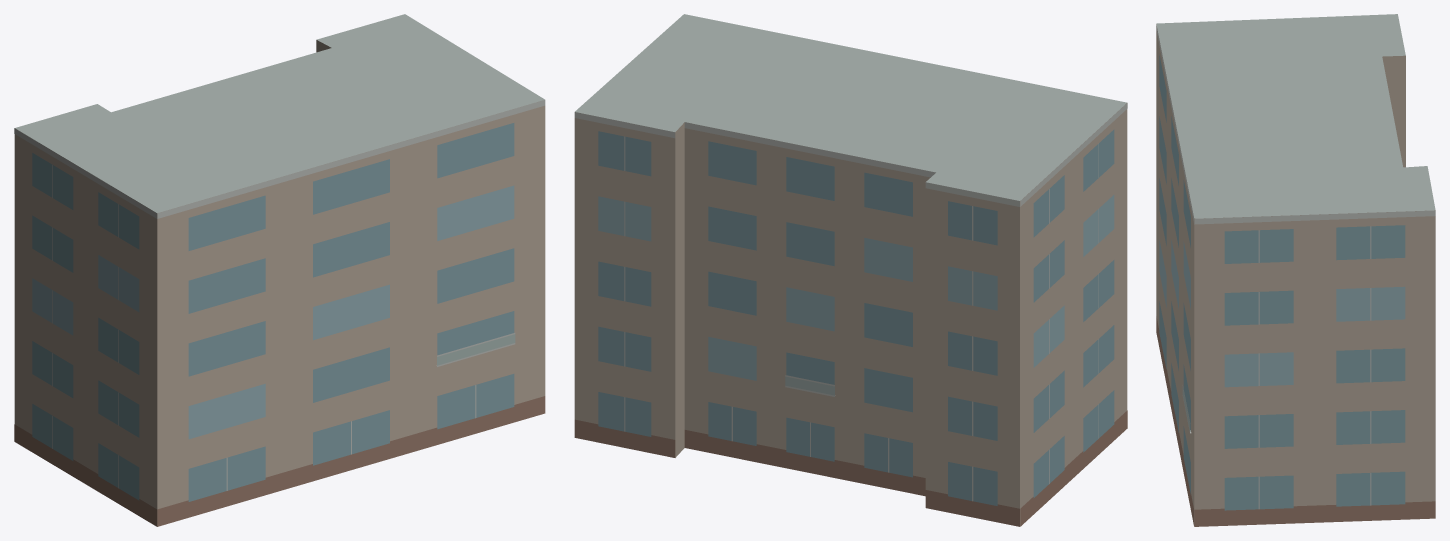
File: survey-upis-33034072.glb
3 renders of one model, left to right at view 1: azimuth 30°, elevation 25°; view 2: azimuth 150°, elevation 25°; view 3: azimuth 270°, elevation 25°, orthographic. The views are drawn at different scales.
Parts seen in each view (by area): view 1: survey-upis-33034072.tmp; view 2: survey-upis-33034072.tmp; view 3: survey-upis-33034072.tmp.
Boxes of the visible parts, left/top/right/bottom form: survey-upis-33034072.tmp: left=14, top=14, right=545, bottom=526; survey-upis-33034072.tmp: left=574, top=14, right=1127, bottom=526; survey-upis-33034072.tmp: left=1156, top=14, right=1435, bottom=526.
Size of the model in its own units: 18.75 by 13.15 by 10.82.
